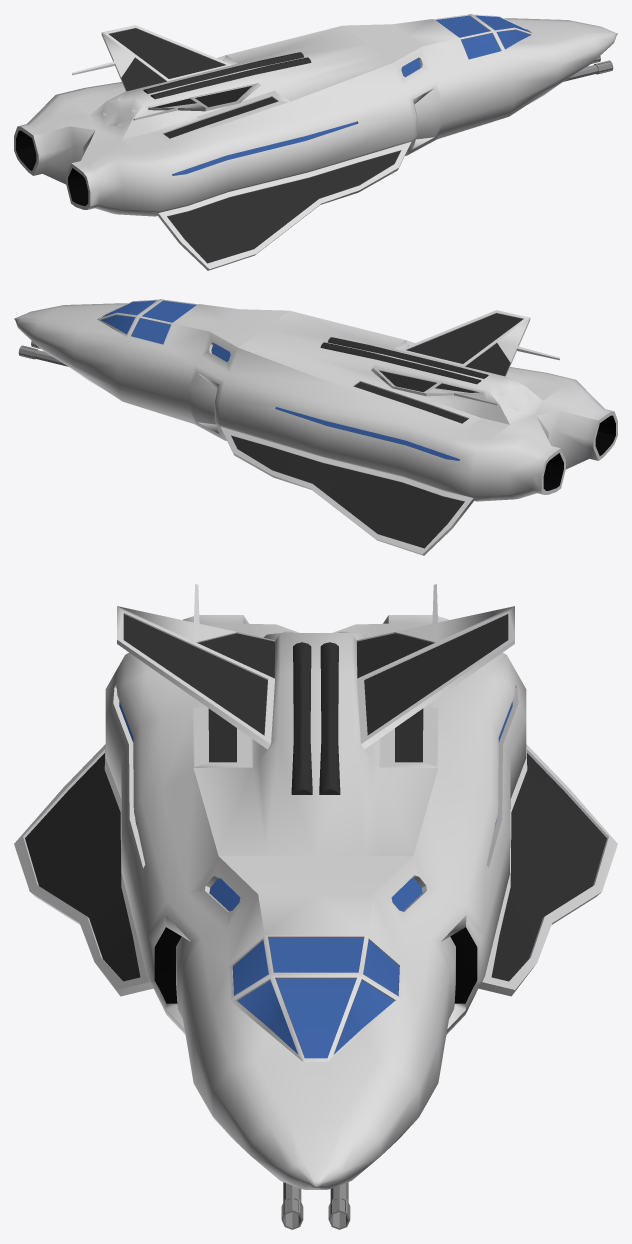
File: ship2_modif.dae
The picture shows the model from 3 angles, top to bottom: view 1: azimuth 30°, elevation 25°; view 2: azimuth 150°, elevation 25°; view 3: azimuth 270°, elevation 25°; orthographic projection. The views are drawn at different scales.
Visible parts, largest first — view 1: Cube.011_Cube.017, Canons; view 2: Cube.011_Cube.017, Canons; view 3: Cube.011_Cube.017, Canons.
Part boxes in pixels (box(x1,y1,x2,y2)): Cube.011_Cube.017: box(14, 14, 617, 270); Canons: box(563, 55, 613, 81); Cube.011_Cube.017: box(14, 299, 617, 555); Canons: box(18, 340, 68, 366); Cube.011_Cube.017: box(14, 584, 617, 1189); Canons: box(281, 1182, 350, 1229).
Size of the model in its own units: 14.15 by 6.83 by 3.3.
